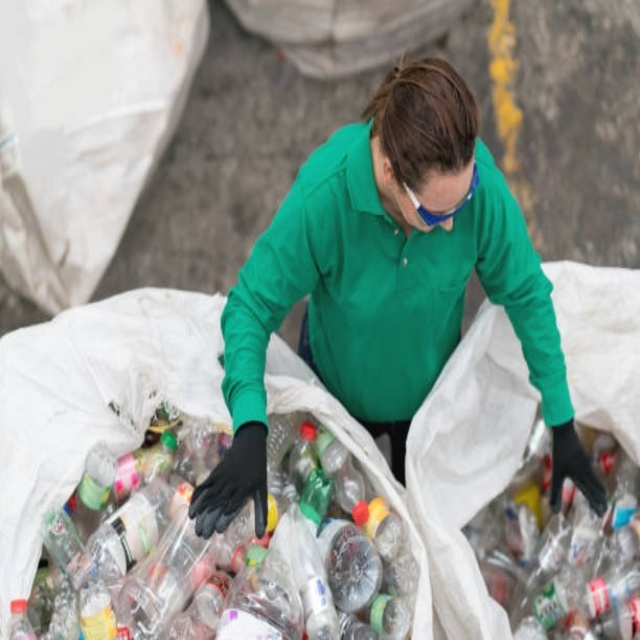Gafas: (402, 161, 476, 229)
Guantes: (188, 419, 269, 541), (549, 418, 608, 517)
